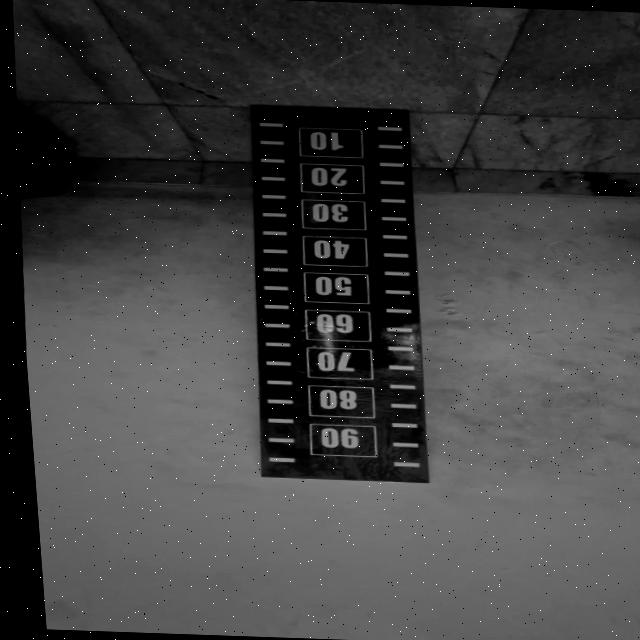water-meter: (194, 94, 477, 495)
